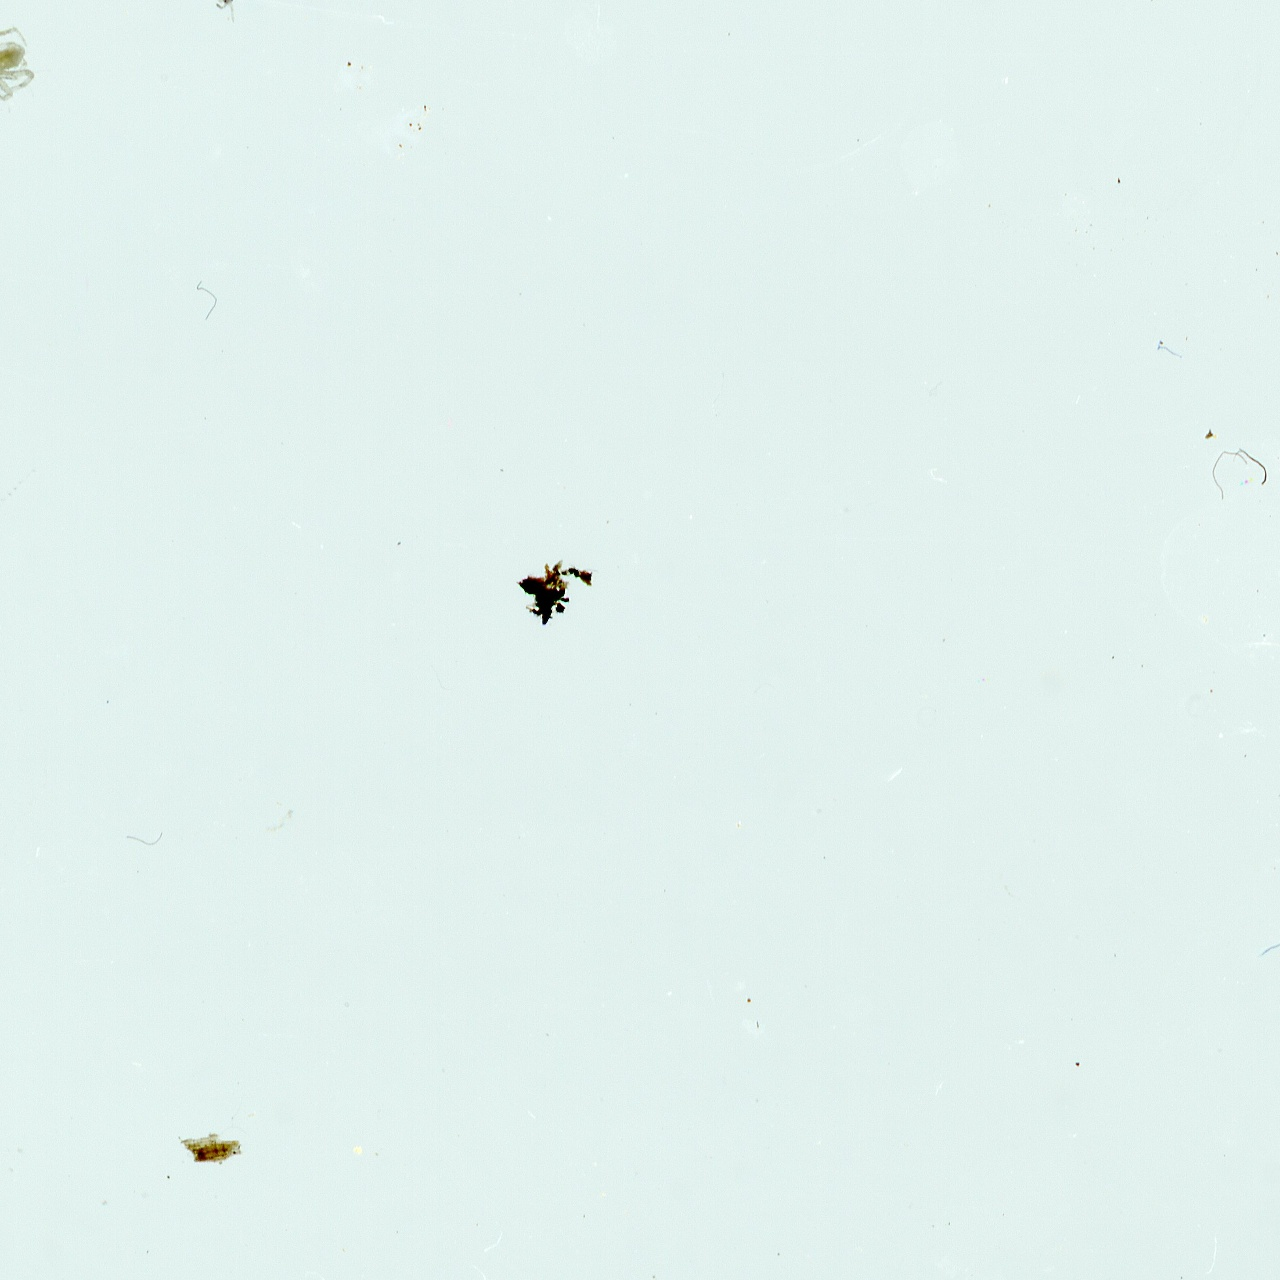arthropod: (0, 21, 41, 113), (197, 0, 239, 27)
